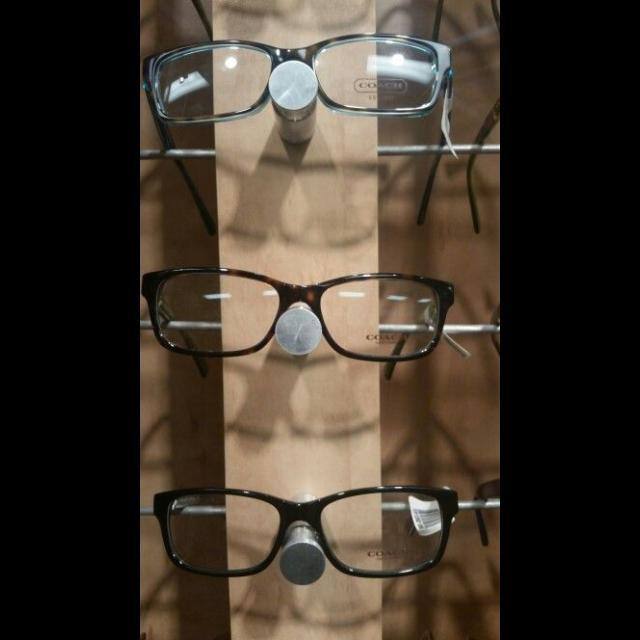glasses: (140, 33, 452, 229), (140, 266, 454, 382), (152, 486, 460, 580)
